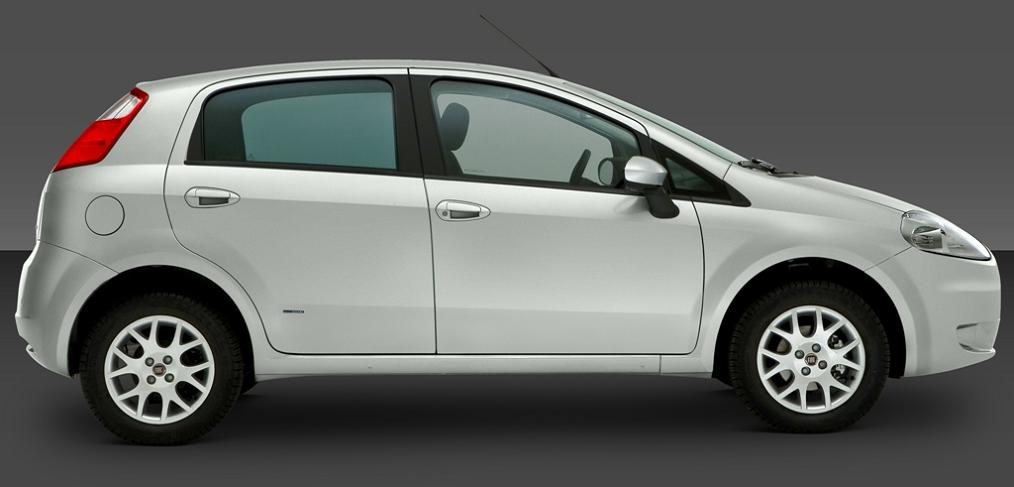Carro: (15, 58, 1014, 440)
